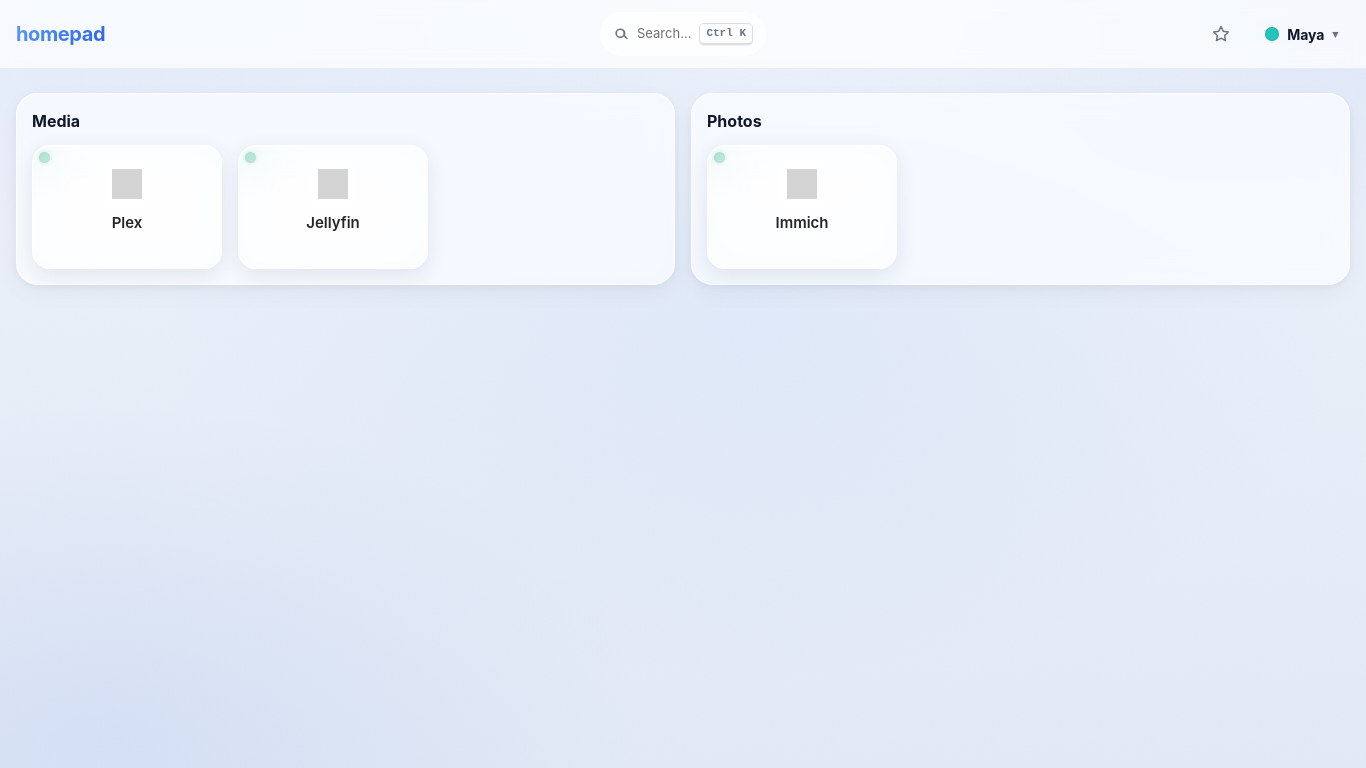
Test case: Kid shell — the user menu (K-2) › Sign out returns to the normal login screen
Click the button with test id "user-menu-trigger": (1303, 34) [1255, 12, 1350, 56]
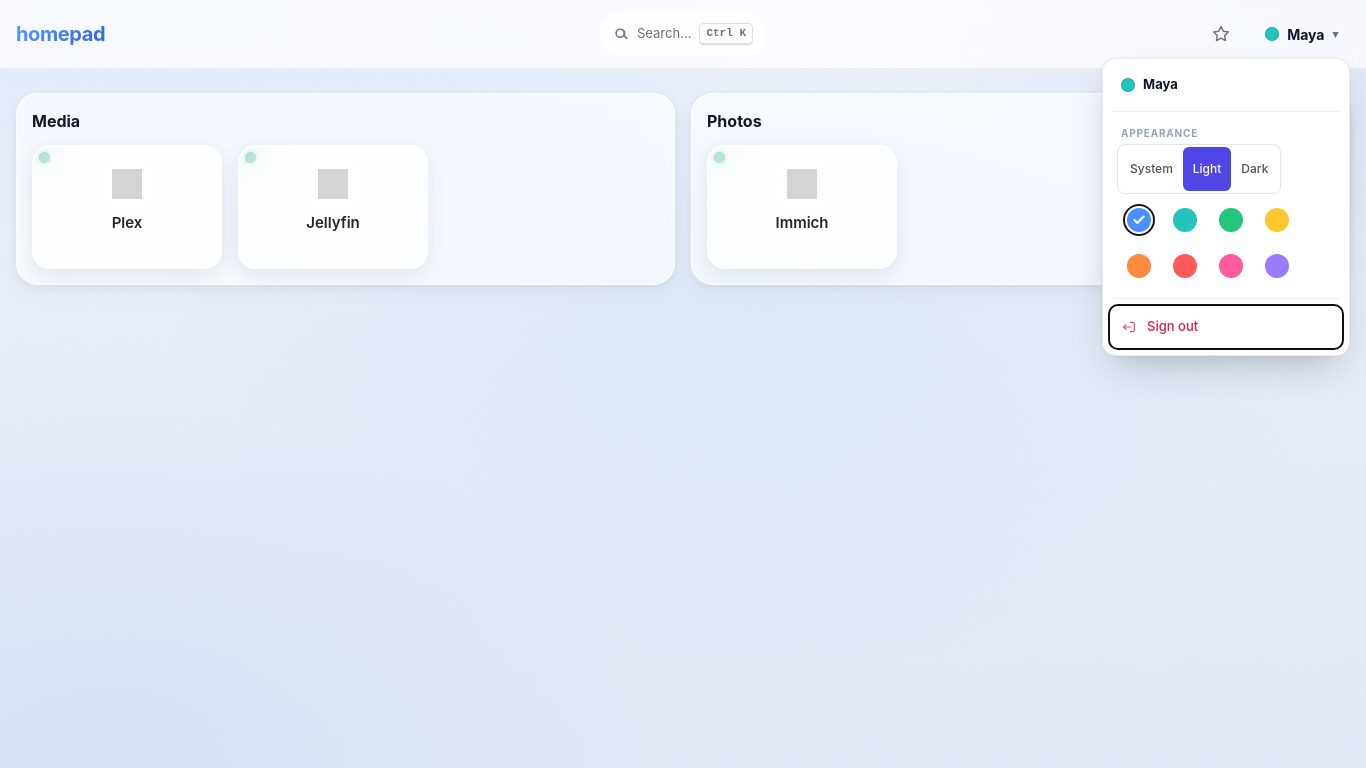
Click the menu item "Sign out": (1226, 326) [1109, 304, 1343, 348]
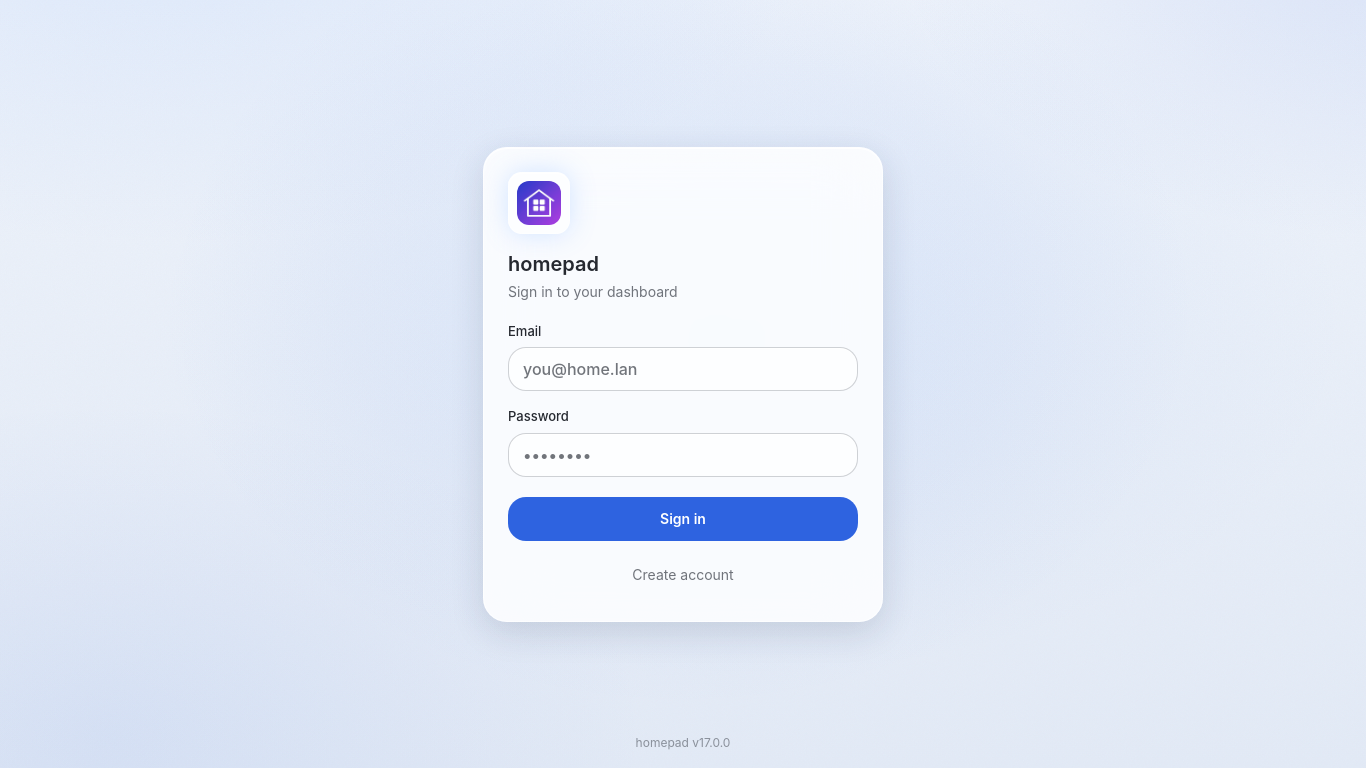
expect the text "Sign in to your dashboard" is shown: met, box [508, 282, 678, 300]
